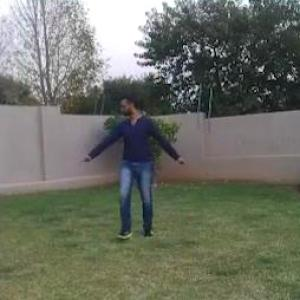land: (68, 77, 189, 242)
